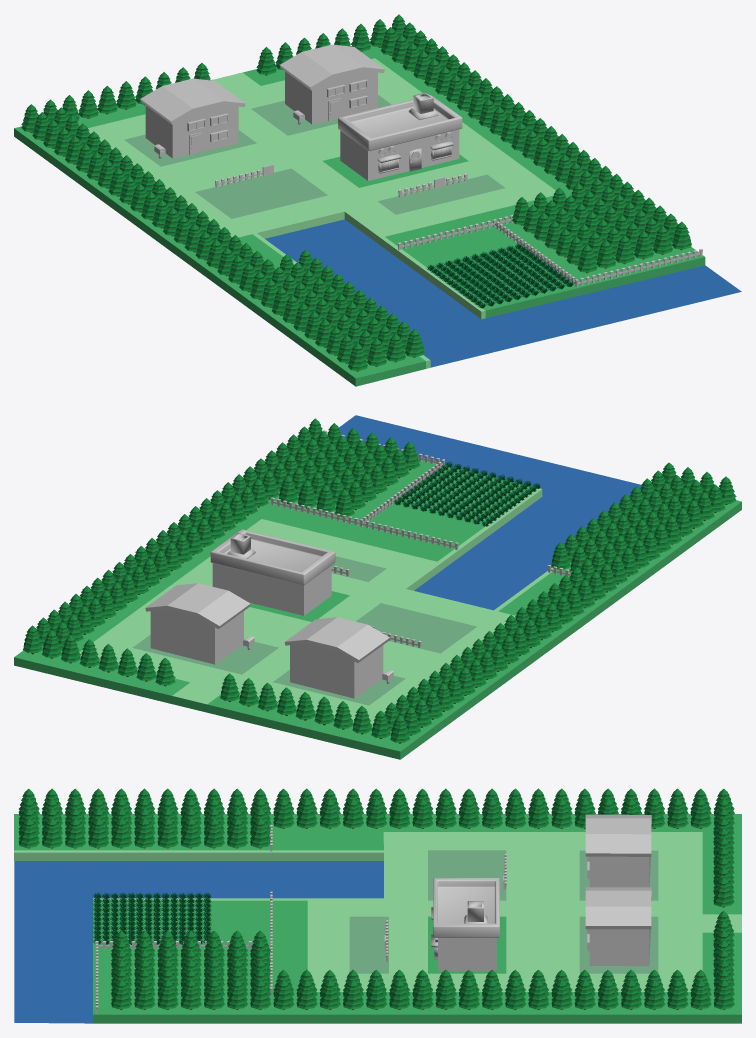
The model's file is pallet_cityEXTRAOFICIAL.fbx.
3 renders of one model, top to bottom at view 1: azimuth 30°, elevation 25°; view 2: azimuth 150°, elevation 25°; view 3: azimuth 270°, elevation 25°, orthographic. The views are drawn at different scales.
Visible parts, largest first — view 1: Cube.001, Cone.018, Cube.002, Circle.002, Cube.005, Cube.012, Plane.005, cerca sem quina.001; view 2: Cube.001, Cone.018, Cube.002, Circle.002, Cube.012, Cube.005, Plane.005, cerca sem quina.001; view 3: Cube.001, Cone.018, Cube.002, Circle.002, Cube.012, Plane.005, Cube.005, cerca sem quina.001.
Boxes of the visible parts, x1,y1,x2,y2 form: Cube.001: (14,41,705,386); Cone.018: (21,14,691,371); Cube.002: (265,219,741,367); Circle.002: (338,92,462,180); Cube.005: (140,78,245,158); Cube.012: (280,44,384,124); Plane.005: (426,243,570,308); cerca sem quina.001: (397,215,702,286); Cube.001: (14,458,741,759); Cone.018: (23,418,736,743); Cube.002: (339,415,641,610); Circle.002: (210,529,335,615); Cube.012: (145,583,250,664); Cube.005: (284,617,389,698); Plane.005: (394,464,540,526); cerca sem quina.001: (271,430,572,576); Cube.001: (14,814,741,1023); Cone.018: (18,788,734,1009); Cube.002: (14,861,383,1023); Circle.002: (431,878,499,971); Cube.012: (585,887,651,966); Plane.005: (92,892,211,944); Cube.005: (585,814,651,887); cerca sem quina.001: (95,825,272,1013).
Bounding box in the file's own units: 7582 × 1156 × 11612.
